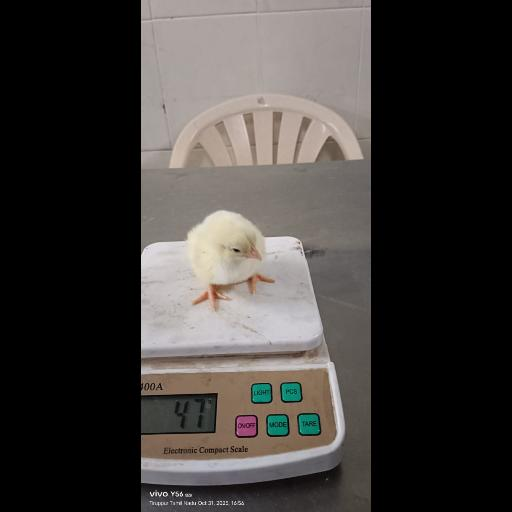chick: (184, 210, 275, 312)
